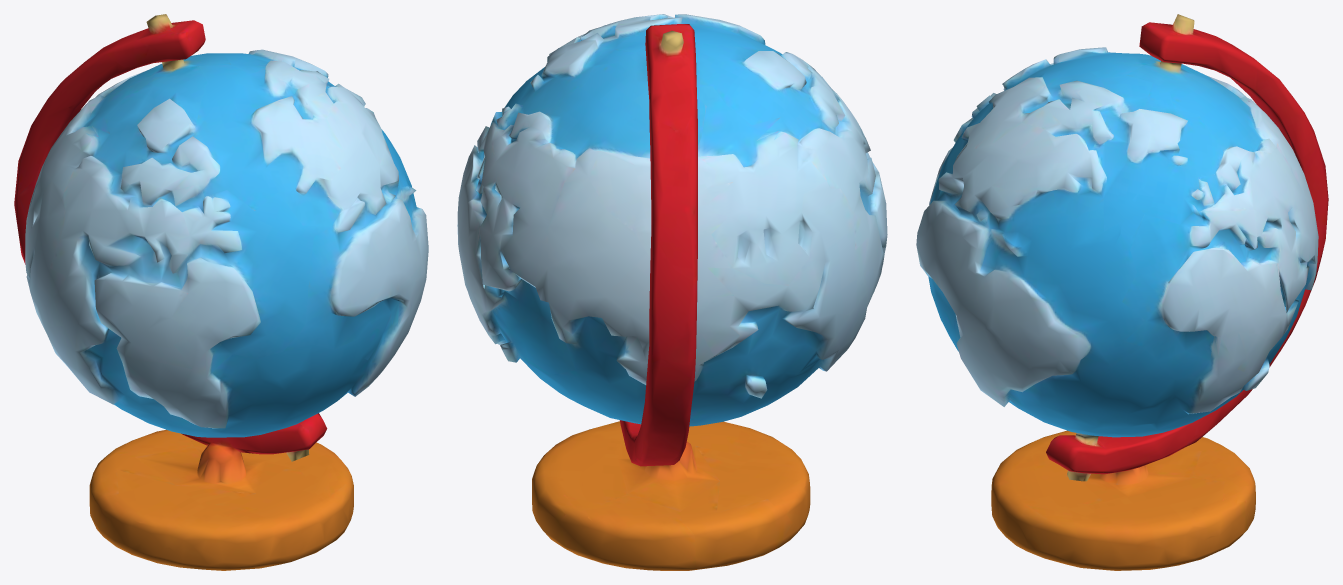
The model's file is globe.glb.
The picture shows the model from 3 angles, left to right: view 1: azimuth 30°, elevation 25°; view 2: azimuth 150°, elevation 25°; view 3: azimuth 270°, elevation 25°; orthographic projection. The views are drawn at different scales.
Parts seen in each view (by area): view 1: tripo_node_c733cf7b-d862-4354-8279-1d152e1f240e; view 2: tripo_node_c733cf7b-d862-4354-8279-1d152e1f240e; view 3: tripo_node_c733cf7b-d862-4354-8279-1d152e1f240e.
Part boxes in pixels (bbox=[...]): tripo_node_c733cf7b-d862-4354-8279-1d152e1f240e: bbox=[14, 14, 428, 570]; tripo_node_c733cf7b-d862-4354-8279-1d152e1f240e: bbox=[457, 14, 887, 570]; tripo_node_c733cf7b-d862-4354-8279-1d152e1f240e: bbox=[916, 14, 1328, 570].
Size of the model in its own units: 0.7464 by 1 by 0.7639.
Materials: 1 (1 with a texture image).
